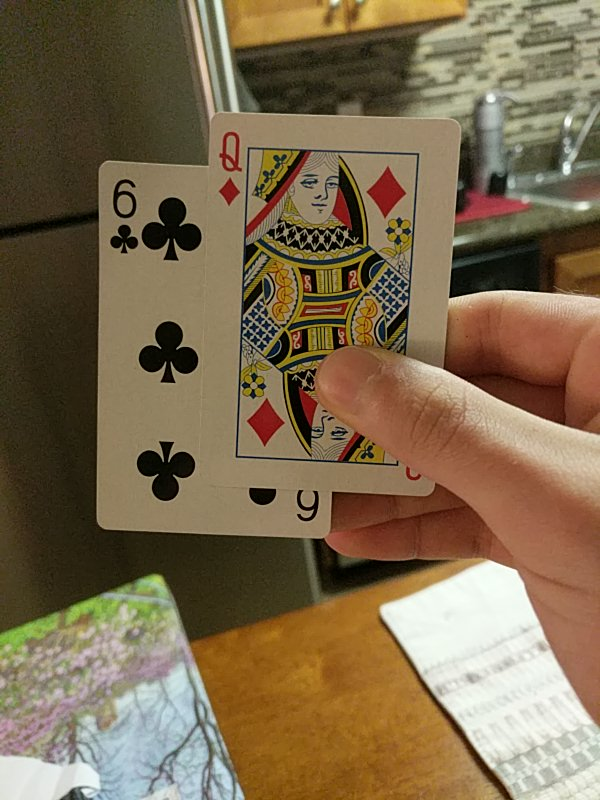Clubs: (99, 161, 329, 535)
Diamonds: (212, 113, 459, 496)
